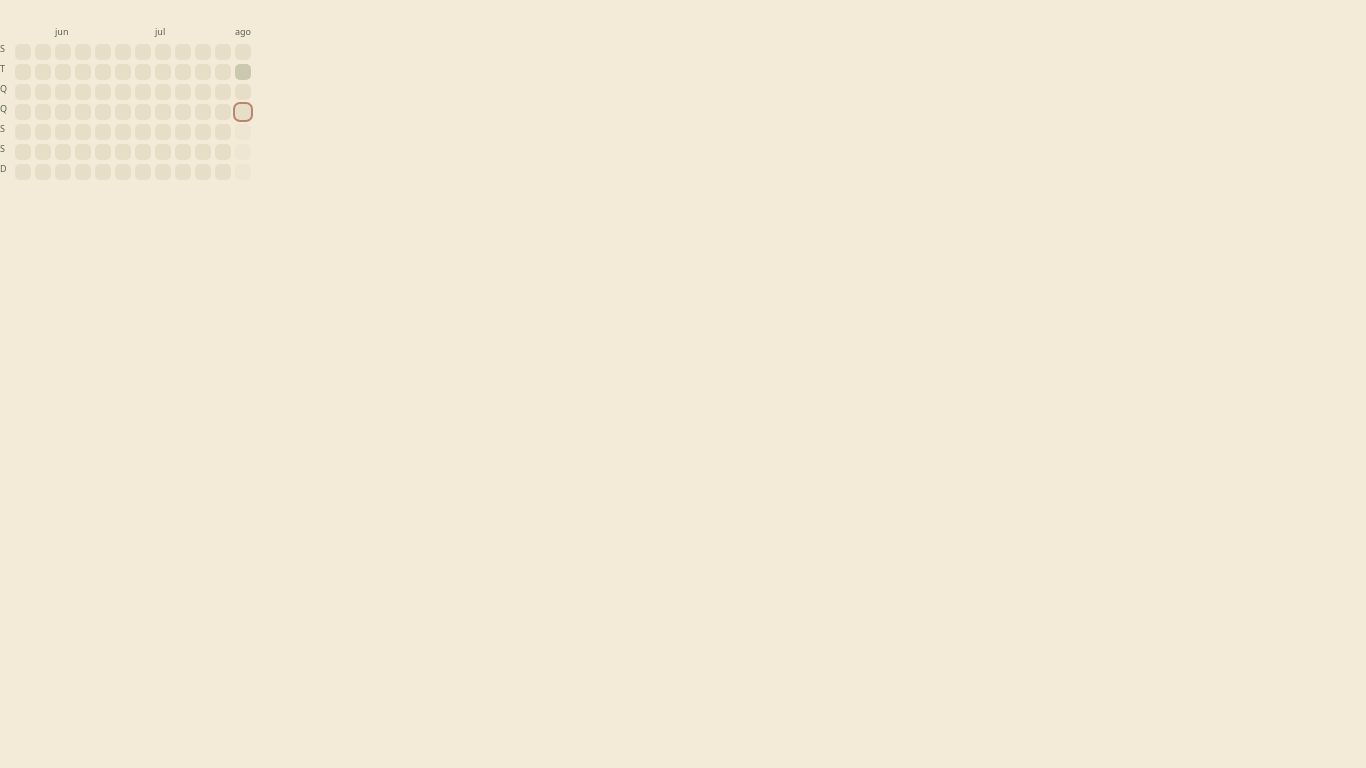
Test: MapaCalor — ordem e formatação do popover no fuso local › formata a data do dia no padrão pt-BR do fuso local
Click the button named "04 de ago. — 1 prática" at (243, 72), box [235,64,251,80]
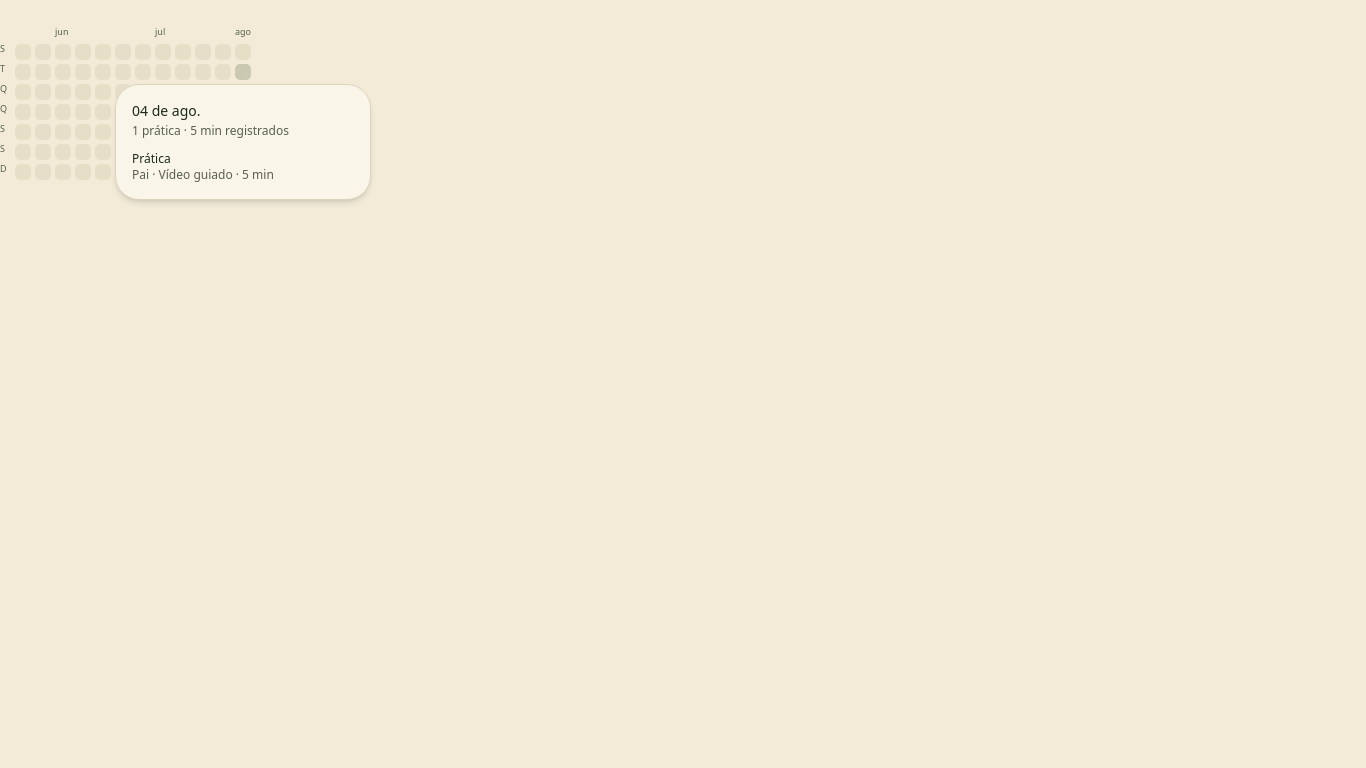
Now the text "04 de ago." is shown, box [132,101,200,120]
